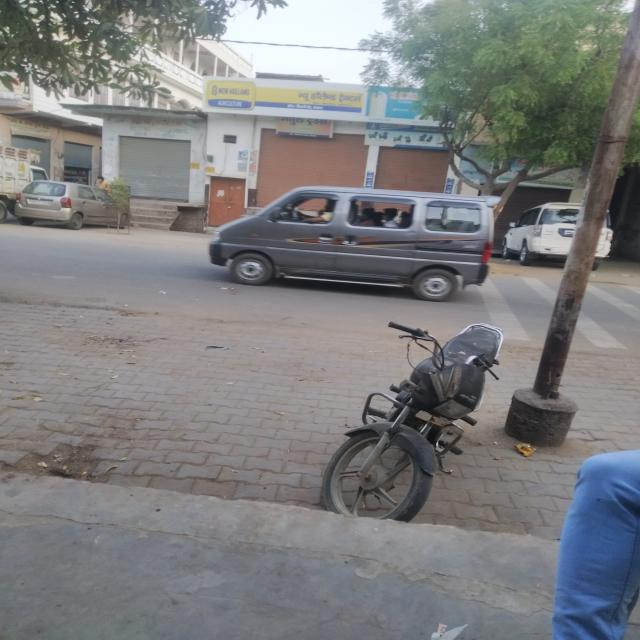Car: (500, 202, 580, 264), (15, 180, 107, 229), (593, 219, 613, 270)
Two Wheeler: (322, 322, 503, 521)
